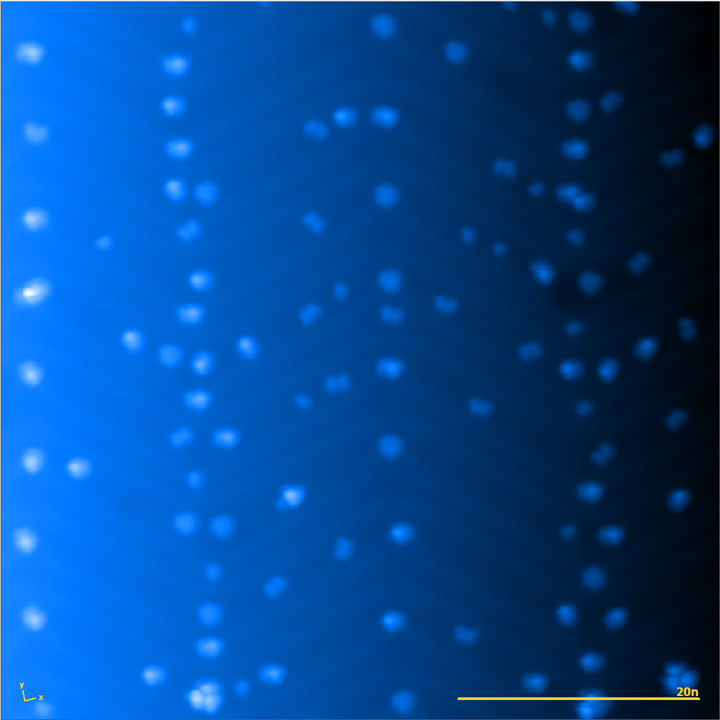M: (388, 688, 417, 716), (194, 600, 223, 628), (376, 432, 404, 461), (376, 266, 404, 295), (369, 12, 398, 39), (171, 509, 198, 537), (372, 181, 400, 208), (155, 341, 182, 368), (442, 38, 469, 65), (208, 513, 235, 539), (191, 180, 218, 206), (564, 97, 591, 123), (576, 269, 603, 295), (579, 564, 606, 590)
